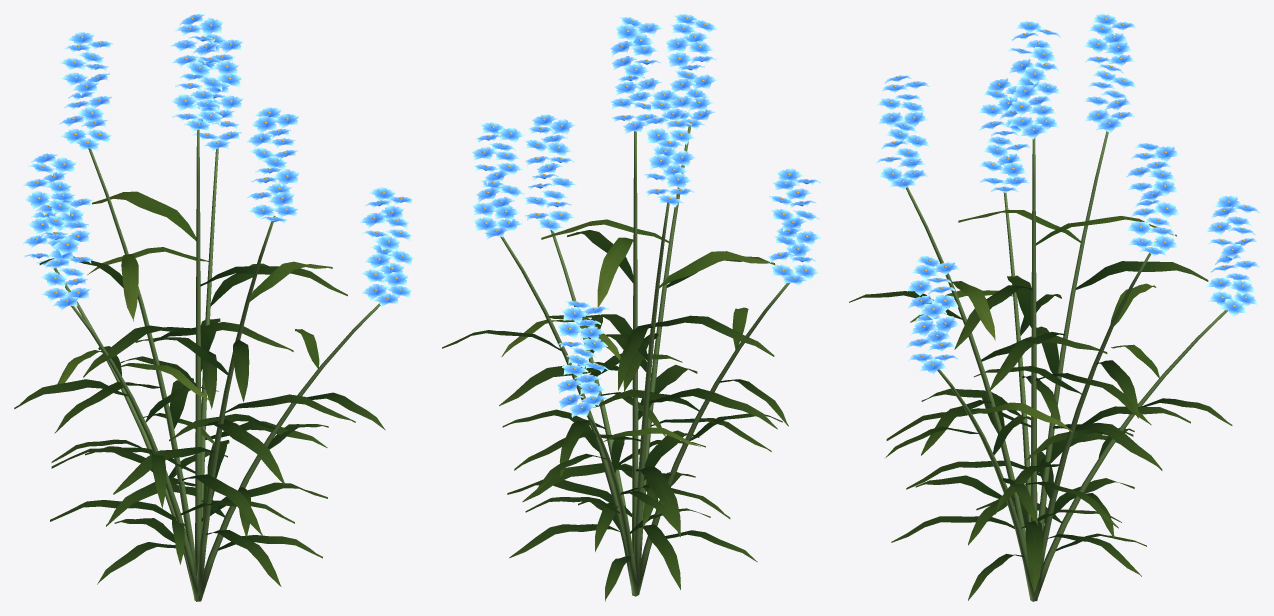
File: lavender-dream-10-lod.glb
3 renders of one model, left to right at view 1: azimuth 30°, elevation 25°; view 2: azimuth 150°, elevation 25°; view 3: azimuth 270°, elevation 25°, orthographic.
Visible parts, largest first — view 1: lavender_dream_stage_10_lavender_petal.021, lavender_dream_stage_10_leaf_veins.021, lavender_dream_stage_10_stem_fibres.021, lavender_dream_stage_10_young_leaf.021, lavender_dream_stage_10_pollen_granules.021; view 2: lavender_dream_stage_10_lavender_petal.021, lavender_dream_stage_10_leaf_veins.021, lavender_dream_stage_10_stem_fibres.021, lavender_dream_stage_10_young_leaf.021, lavender_dream_stage_10_pollen_granules.021; view 3: lavender_dream_stage_10_lavender_petal.021, lavender_dream_stage_10_leaf_veins.021, lavender_dream_stage_10_stem_fibres.021, lavender_dream_stage_10_young_leaf.021, lavender_dream_stage_10_pollen_granules.021.
Part boxes in pixels (bbox=[...]): lavender_dream_stage_10_lavender_petal.021: bbox=[23, 14, 413, 310]; lavender_dream_stage_10_leaf_veins.021: bbox=[14, 256, 385, 586]; lavender_dream_stage_10_stem_fibres.021: bbox=[54, 129, 380, 601]; lavender_dream_stage_10_young_leaf.021: bbox=[57, 191, 332, 401]; lavender_dream_stage_10_pollen_granules.021: bbox=[35, 17, 403, 301]; lavender_dream_stage_10_lavender_petal.021: bbox=[472, 14, 820, 417]; lavender_dream_stage_10_leaf_veins.021: bbox=[442, 230, 788, 601]; lavender_dream_stage_10_stem_fibres.021: bbox=[500, 126, 789, 596]; lavender_dream_stage_10_young_leaf.021: bbox=[501, 219, 774, 446]; lavender_dream_stage_10_pollen_granules.021: bbox=[482, 17, 808, 408]; lavender_dream_stage_10_lavender_petal.021: bbox=[876, 14, 1259, 374]; lavender_dream_stage_10_leaf_veins.021: bbox=[849, 261, 1232, 600]; lavender_dream_stage_10_stem_fibres.021: bbox=[906, 131, 1227, 601]; lavender_dream_stage_10_young_leaf.021: bbox=[910, 209, 1176, 432]; lavender_dream_stage_10_pollen_granules.021: bbox=[888, 18, 1248, 365].
Bounding box in the file's own units: 0.4045 × 0.6739 × 0.4383.
5 materials, 3 textured.
